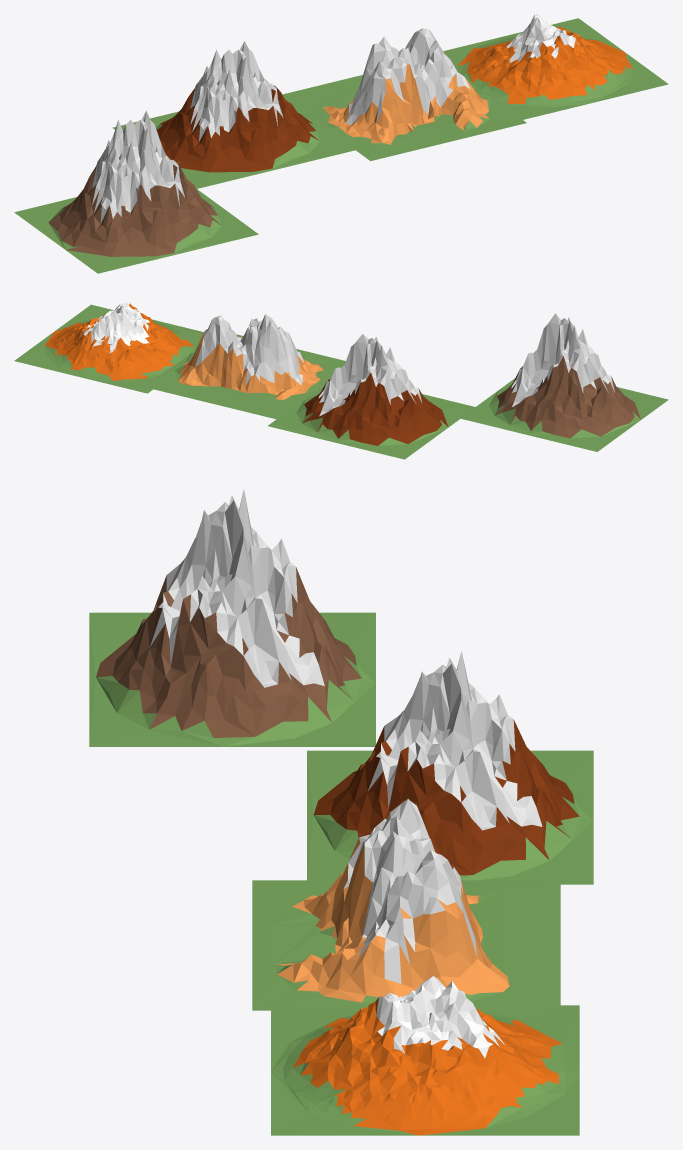
File: mountains.fbx
3 renders of one model, top to bottom at view 1: azimuth 30°, elevation 25°; view 2: azimuth 150°, elevation 25°; view 3: azimuth 270°, elevation 25°, orthographic. The views are drawn at different scales.
Visible parts, largest first — view 1: Landscape.001, Landscape.003, Landscape, Landscape.002; view 2: Landscape.001, Landscape, Landscape.003, Landscape.002; view 3: Landscape.001, Landscape.003, Landscape.002, Landscape.
Part boxes in pixels (x1,y1,x2,y2): Landscape.001: (14, 110, 258, 273); Landscape.003: (282, 28, 526, 161); Landscape: (112, 41, 354, 188); Landscape.002: (443, 14, 668, 119); Landscape.001: (460, 313, 668, 451); Landscape: (268, 334, 475, 459); Landscape.003: (145, 314, 345, 419); Landscape.002: (14, 302, 203, 393); Landscape.001: (89, 489, 375, 746); Landscape.003: (252, 798, 560, 1010); Landscape.002: (271, 976, 579, 1135); Landscape: (307, 651, 593, 884).
Size of the model in its own units: 797 by 137 by 327.
